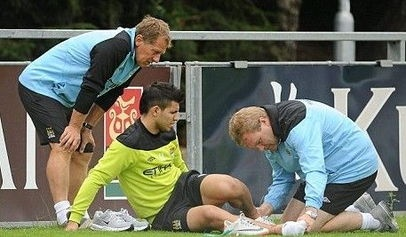falling: (58, 76, 299, 236)
